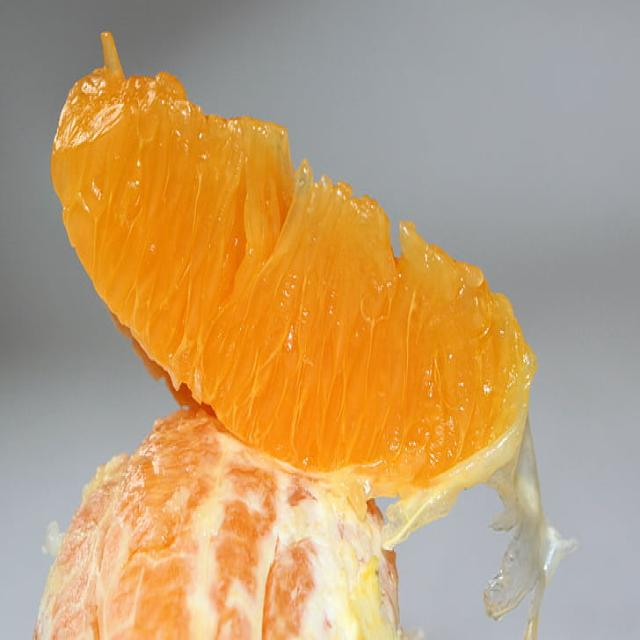orange: (35, 28, 558, 490), (24, 424, 406, 632)
